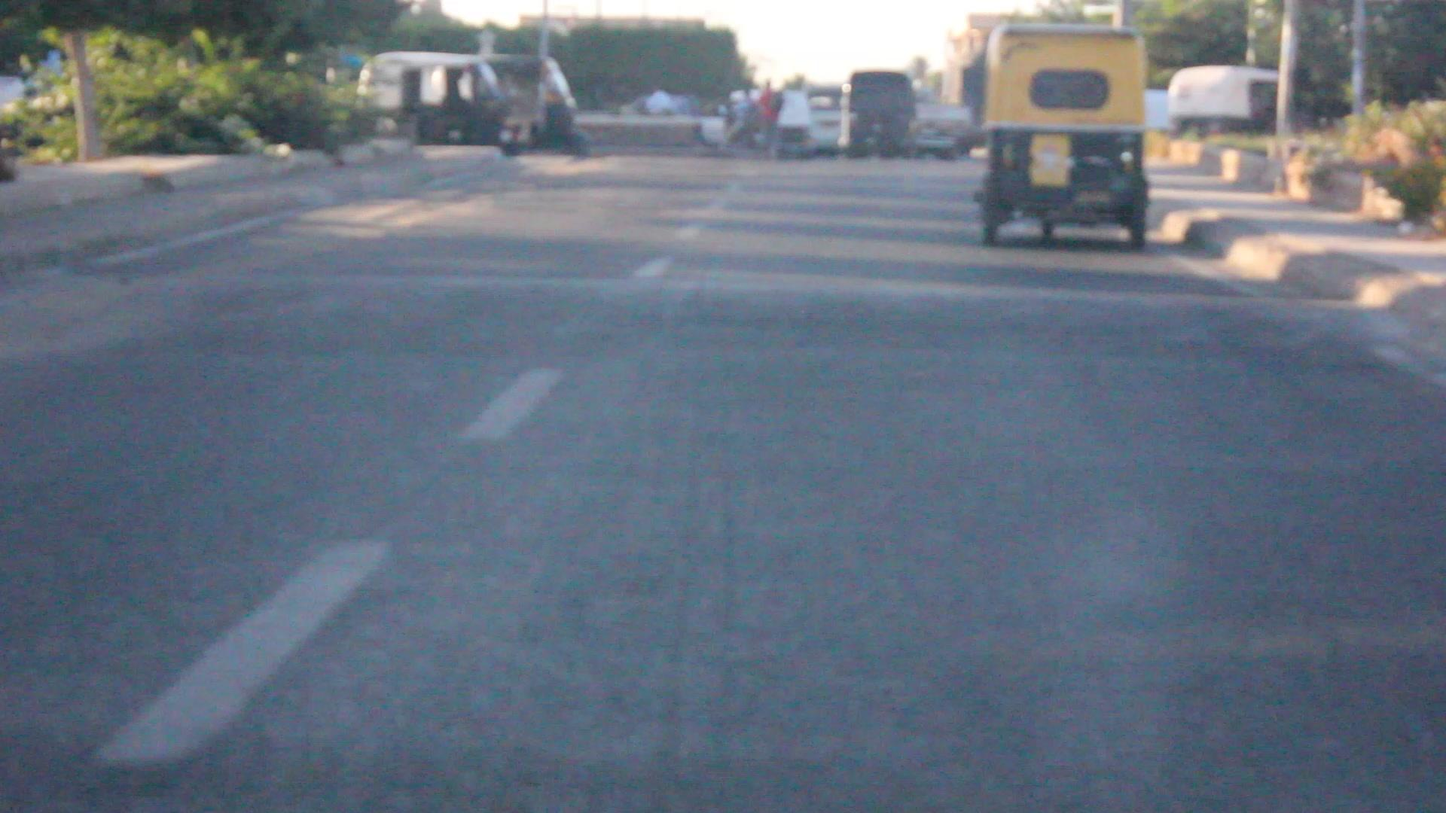Bump: (66, 279, 1401, 369)
